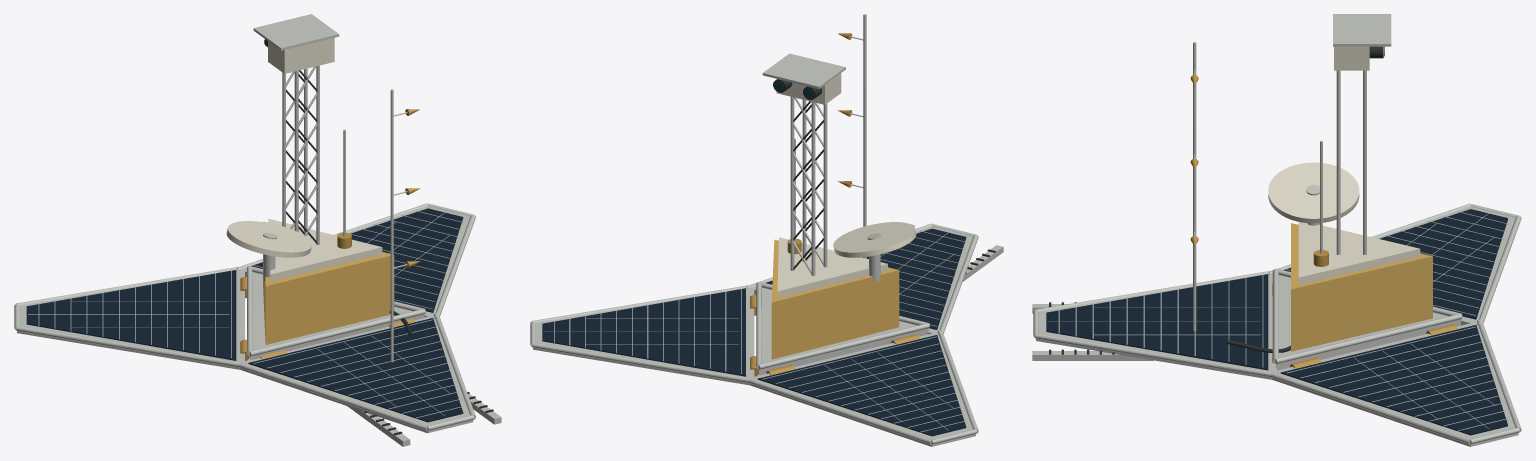
Rendered from pathfinder-educational.glb.
3 views of the same model, side by side, from view 1: azimuth 30°, elevation 25°; view 2: azimuth 150°, elevation 25°; view 3: azimuth 270°, elevation 25° (orthographic). The views are drawn at different scales.
Parts seen in each view (by area): view 1: Solar cell field (×3), Central insulated electronics compartment, Hinged petal structure (×3), Petal left frame (×3), Camera mast upright (×4), Electronics lid, High-gain antenna panel, Triangular base platform, Petal right frame (×2), Camera sunshade, IMP stereo camera housing, Base structural rail (×2) (+2 smaller); view 2: Solar cell field (×3), Central insulated electronics compartment, Hinged petal structure (×3), Camera mast upright (×4), Electronics lid, Petal left frame (×3), Triangular base platform, High-gain antenna panel, Petal right frame (×2), Camera sunshade, Base structural rail (×2), Meteorology mast (+1 smaller); view 3: Solar cell field (×3), Central insulated electronics compartment, Hinged petal structure (×3), High-gain antenna panel, Electronics lid, Petal left frame (×3), Triangular base platform, Petal right frame (×2), Camera sunshade, Base structural rail (×2), Camera mast upright (×2), Meteorology mast (+2 smaller).
Part boxes in pixels (left/top/right/bottom): Solar cell field (×3): left=26, top=208, right=463, bottom=422; Central insulated electronics compartment: left=263, top=221, right=394, bottom=344; Hinged petal structure (×3): left=17, top=206, right=473, bottom=433; Petal left frame (×3): left=16, top=214, right=475, bottom=430; Camera mast upright (×4): left=282, top=65, right=319, bottom=244; Electronics lid: left=268, top=219, right=382, bottom=281; High-gain antenna panel: left=226, top=221, right=311, bottom=257; Triangular base platform: left=250, top=272, right=424, bottom=360; Petal right frame (×2): left=16, top=313, right=475, bottom=418; Camera sunshade: left=253, top=14, right=339, bottom=50; IMP stereo camera housing: left=268, top=38, right=334, bottom=73; Base structural rail (×2): left=246, top=266, right=425, bottom=356; Solar cell field (×3): left=542, top=228, right=966, bottom=436; Central insulated electronics compartment: left=771, top=239, right=899, bottom=359; Hinged petal structure (×3): left=533, top=226, right=975, bottom=446; Camera mast upright (×4): left=790, top=96, right=827, bottom=276; Electronics lid: left=777, top=237, right=887, bottom=297; Petal left frame (×3): left=532, top=234, right=978, bottom=444; Triangular base platform: left=759, top=287, right=928, bottom=375; High-gain antenna panel: left=833, top=222, right=916, bottom=257; Petal right frame (×2): left=532, top=330, right=978, bottom=433; Camera sunshade: left=762, top=53, right=845, bottom=88; Base structural rail (×2): left=756, top=282, right=929, bottom=369; Meteorology mast: left=863, top=14, right=866, bottom=258; Solar cell field (×3): left=1046, top=209, right=1507, bottom=435; Central insulated electronics compartment: left=1291, top=223, right=1432, bottom=351; Hinged petal structure (×3): left=1036, top=207, right=1518, bottom=446; High-gain antenna panel: left=1268, top=162, right=1359, bottom=223; Electronics lid: left=1298, top=222, right=1420, bottom=284; Petal left frame (×3): left=1035, top=215, right=1521, bottom=444; Triangular base platform: left=1275, top=275, right=1460, bottom=370; Petal right frame (×2): left=1035, top=319, right=1521, bottom=431; Camera sunshade: left=1333, top=14, right=1391, bottom=46; Base structural rail (×2): left=1272, top=269, right=1462, bottom=363; Camera mast upright (×2): left=1336, top=70, right=1366, bottom=254; Meteorology mast: left=1193, top=42, right=1196, bottom=330.
Size of the model in its own units: 2.37 by 1.43 by 2.07.
